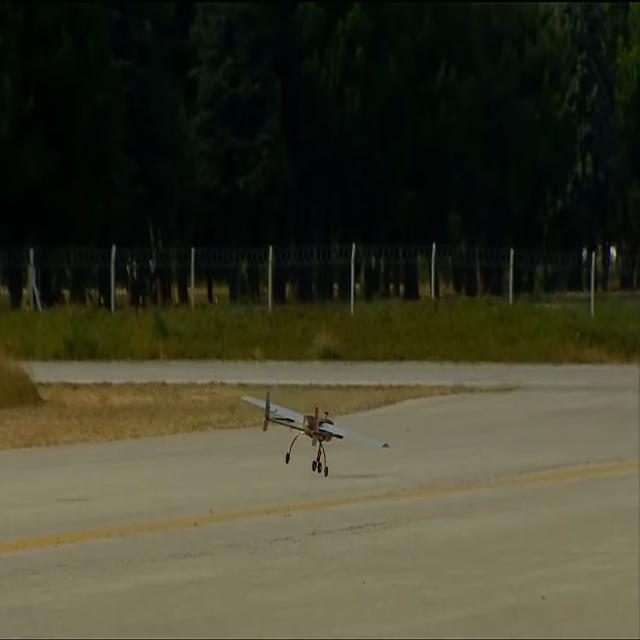iha: (239, 422, 389, 444)
